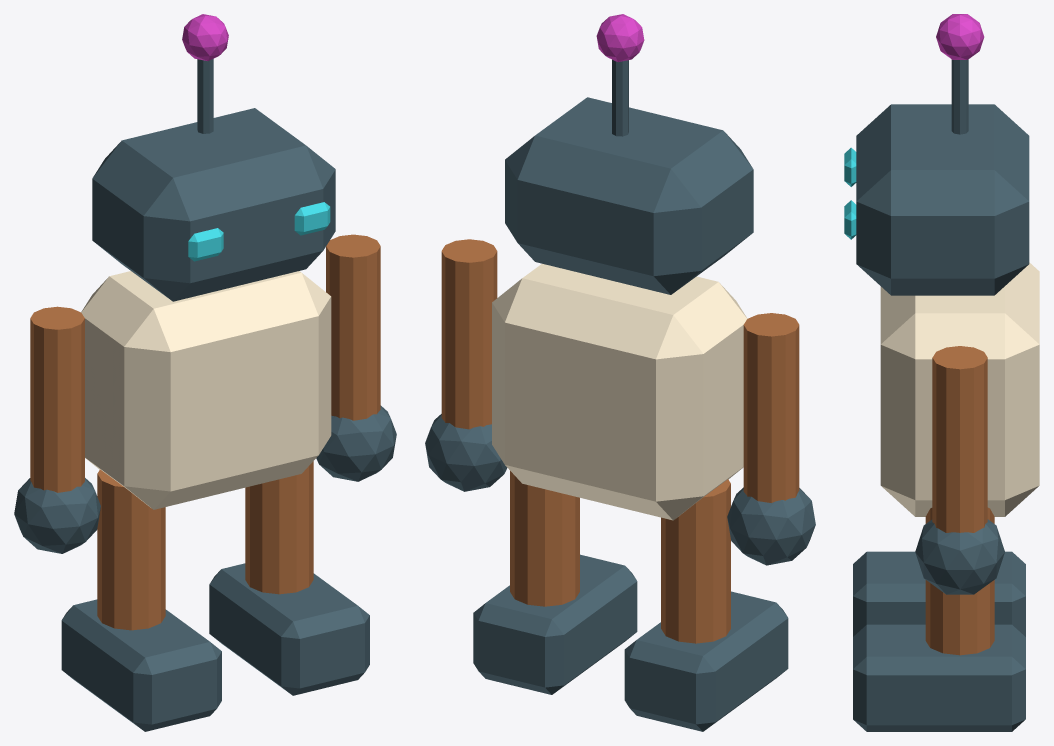
File: person-robot.glb
3 renders of one model, left to right at view 1: azimuth 30°, elevation 25°; view 2: azimuth 150°, elevation 25°; view 3: azimuth 270°, elevation 25°, orthographic. The views are drawn at different scales.
Visible parts, largest first — view 1: robot-body, robot-face, robot-foot, robot-foot.001, robot-arm, robot-arm.001, robot-leg, robot-leg.001, robot-hand, robot-hand.001, antenna-tip, antenna (+2 smaller); view 2: robot-body, robot-face, robot-foot, robot-foot.001, robot-arm, robot-arm.001, robot-leg, robot-leg.001, robot-hand, robot-hand.001, antenna-tip, antenna; view 3: robot-face, robot-body, robot-foot.001, robot-arm.001, robot-foot, robot-hand.001, robot-leg.001, antenna-tip, antenna, robot-eye, robot-eye.001.
Boxes of the visible parts, bbox=[...] form: robot-body: bbox=[81, 271, 331, 509]; robot-face: bbox=[92, 108, 335, 301]; robot-foot: bbox=[61, 599, 221, 731]; robot-foot.001: bbox=[209, 563, 369, 695]; robot-arm: bbox=[30, 306, 84, 492]; robot-arm.001: bbox=[326, 234, 380, 420]; robot-leg: bbox=[97, 469, 165, 630]; robot-leg.001: bbox=[245, 461, 313, 594]; robot-hand: bbox=[14, 478, 100, 553]; robot-hand.001: bbox=[316, 405, 396, 481]; antenna-tip: bbox=[182, 14, 228, 60]; antenna: bbox=[197, 59, 213, 133]; robot-body: bbox=[492, 263, 747, 520]; robot-face: bbox=[505, 97, 753, 294]; robot-foot: bbox=[624, 591, 788, 731]; robot-foot.001: bbox=[473, 554, 637, 694]; robot-arm: bbox=[743, 313, 799, 502]; robot-arm.001: bbox=[441, 239, 497, 429]; robot-leg: bbox=[661, 479, 730, 643]; robot-leg.001: bbox=[510, 471, 579, 606]; robot-hand: bbox=[727, 487, 815, 565]; robot-hand.001: bbox=[425, 414, 507, 491]; antenna-tip: bbox=[596, 14, 644, 61]; antenna: bbox=[612, 59, 628, 136]; robot-face: bbox=[856, 104, 1029, 295]; robot-body: bbox=[880, 262, 1039, 516]; robot-foot.001: bbox=[853, 624, 1025, 731]; robot-arm.001: bbox=[932, 346, 987, 532]; robot-foot: bbox=[853, 551, 1025, 636]; robot-hand.001: bbox=[915, 519, 1004, 594]; robot-leg.001: bbox=[925, 507, 994, 655]; antenna-tip: bbox=[936, 14, 984, 59]; antenna: bbox=[951, 59, 968, 134]; robot-eye: bbox=[844, 147, 856, 186]; robot-eye.001: bbox=[844, 200, 856, 239].
Size of the model in its own units: 1.25 by 2.12 by 0.565.
